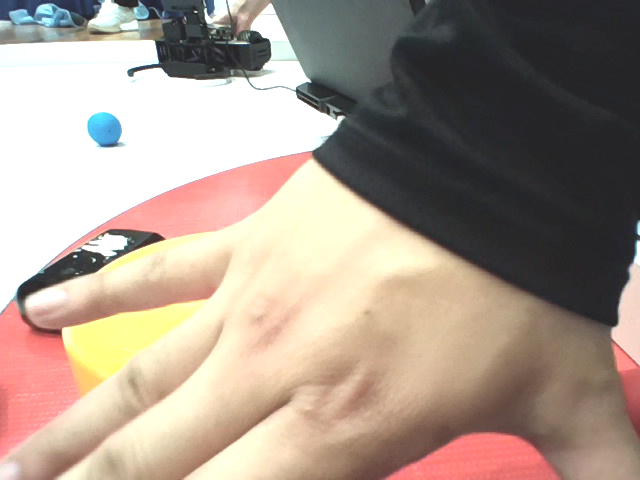black: (17, 220, 165, 329)
blue: (85, 107, 124, 146)
yellow: (54, 229, 384, 404)
